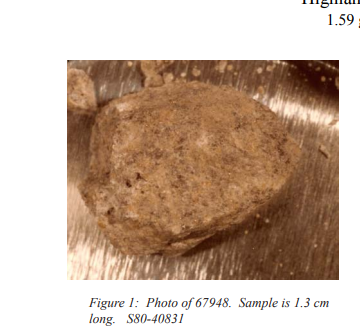Basalt: (79, 86, 284, 249)
